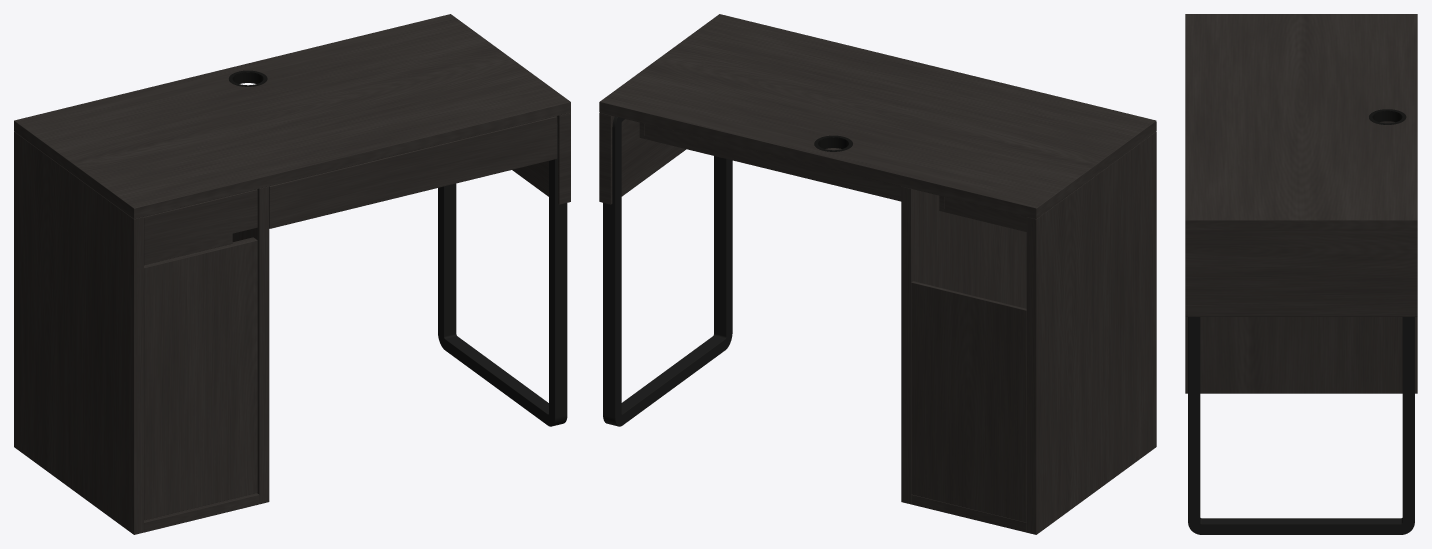
The model's file is dark_desk.glb.
3 views of the same model, side by side, from view 1: azimuth 30°, elevation 25°; view 2: azimuth 150°, elevation 25°; view 3: azimuth 270°, elevation 25° (orthographic). The views are drawn at different scales.
Parts seen in each view (by area): view 1: Desktop_With_Real_Cable_Opening, Pedestal_Outer_Left_Panel, Lower_Cabinet_Door_Vertical_Grain, Wide_Drawer_Front_Horizontal_Grain, Right_Black_Metal_Loop, Left_Small_Drawer_Notched_Front, Pedestal_Inner_Right_Panel, Right_Upper_Wood_Side_Panel, Pedestal_Base_Panel; view 2: Desktop_With_Real_Cable_Opening, Pedestal_Outer_Left_Panel, Pedestal_Rear_Panel_Unseen_Estimate, Pedestal_Inner_Right_Panel, Right_Black_Metal_Loop, Wide_Drawer_Back_Box_Wall_Estimated, Right_Upper_Wood_Side_Panel, Small_Drawer_Back_Box_Wall_Estimated, Pedestal_Base_Panel; view 3: Desktop_With_Real_Cable_Opening, Right_Upper_Wood_Side_Panel, Pedestal_Inner_Right_Panel, Right_Black_Metal_Loop.
Part boxes in pixels (bbox=[...]): Desktop_With_Real_Cable_Opening: bbox=[14, 14, 570, 218]; Pedestal_Outer_Left_Panel: bbox=[14, 131, 143, 534]; Lower_Cabinet_Door_Vertical_Grain: bbox=[144, 237, 257, 520]; Wide_Drawer_Front_Horizontal_Grain: bbox=[269, 116, 557, 228]; Right_Black_Metal_Loop: bbox=[438, 123, 567, 426]; Left_Small_Drawer_Notched_Front: bbox=[144, 189, 257, 265]; Pedestal_Inner_Right_Panel: bbox=[232, 186, 269, 504]; Right_Upper_Wood_Side_Panel: bbox=[512, 112, 570, 204]; Pedestal_Base_Panel: bbox=[144, 493, 259, 532]; Desktop_With_Real_Cable_Opening: bbox=[599, 14, 1156, 218]; Pedestal_Outer_Left_Panel: bbox=[1026, 131, 1156, 534]; Pedestal_Rear_Panel_Unseen_Estimate: bbox=[911, 281, 1026, 522]; Pedestal_Inner_Right_Panel: bbox=[901, 186, 1026, 504]; Right_Black_Metal_Loop: bbox=[603, 116, 732, 426]; Wide_Drawer_Back_Box_Wall_Estimated: bbox=[644, 124, 901, 201]; Right_Upper_Wood_Side_Panel: bbox=[599, 113, 686, 204]; Small_Drawer_Back_Box_Wall_Estimated: bbox=[944, 197, 1026, 231]; Pedestal_Base_Panel: bbox=[911, 494, 1026, 532]; Desktop_With_Real_Cable_Opening: bbox=[1185, 14, 1417, 230]; Right_Upper_Wood_Side_Panel: bbox=[1185, 230, 1417, 316]; Pedestal_Inner_Right_Panel: bbox=[1185, 121, 1417, 393]; Right_Black_Metal_Loop: bbox=[1188, 317, 1414, 534].
Size of the model in its own units: 1.05 by 0.75 by 0.5.
3 materials, 1 textured.
